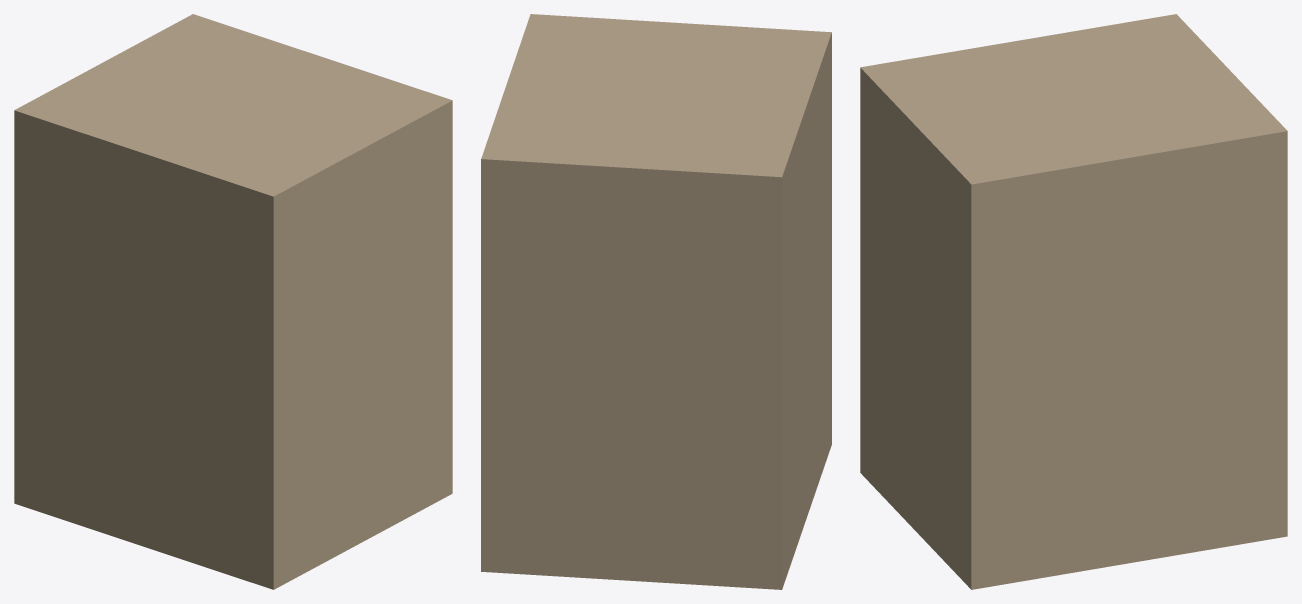
File: bld_106796872.dae
3 renders of one model, left to right at view 1: azimuth 30°, elevation 25°; view 2: azimuth 150°, elevation 25°; view 3: azimuth 270°, elevation 25°, orthographic. The views are drawn at different scales.
Parts seen in each view (by area): view 1: bld_106796872; view 2: bld_106796872; view 3: bld_106796872.
Boxes of the visible parts, x1,y1,x2,y2 form: bld_106796872: (14, 14, 452, 589); bld_106796872: (481, 14, 831, 589); bld_106796872: (860, 14, 1287, 589).
Size of the model in its own units: 7.22 by 7.65 by 8.
